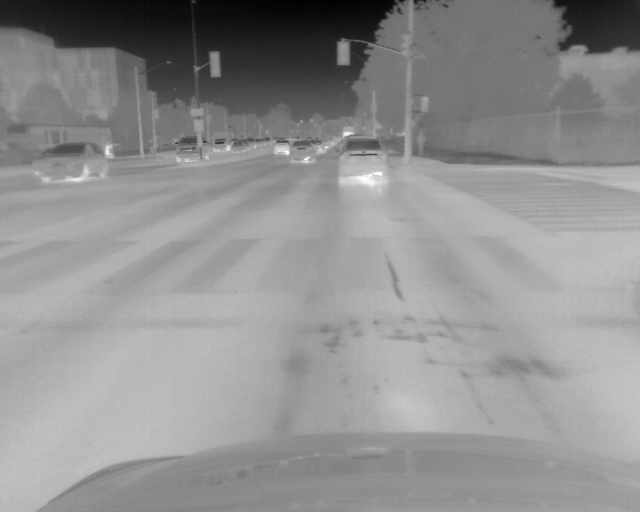car: (33, 143, 110, 184), (336, 135, 386, 180), (173, 137, 209, 163), (290, 142, 313, 164), (211, 137, 229, 153), (273, 140, 290, 156), (229, 140, 246, 155), (312, 141, 324, 157), (245, 138, 257, 150), (324, 139, 335, 150)
people: (415, 131, 427, 156)
